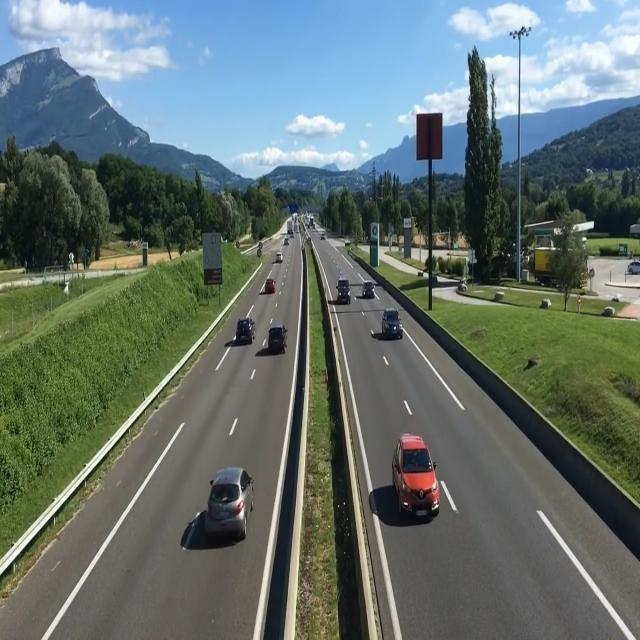Car: (382, 421, 450, 519), (205, 468, 257, 535), (264, 317, 294, 356), (377, 304, 405, 341), (232, 312, 258, 344), (356, 272, 380, 304), (334, 276, 357, 308), (270, 248, 292, 269), (260, 272, 279, 294)
